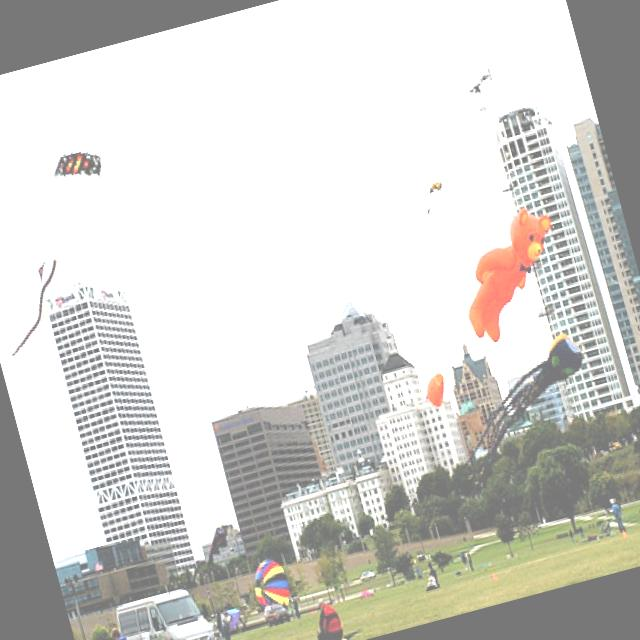Vehicle: (112, 582, 224, 640), (260, 600, 291, 628), (356, 567, 378, 582), (414, 548, 426, 562)
